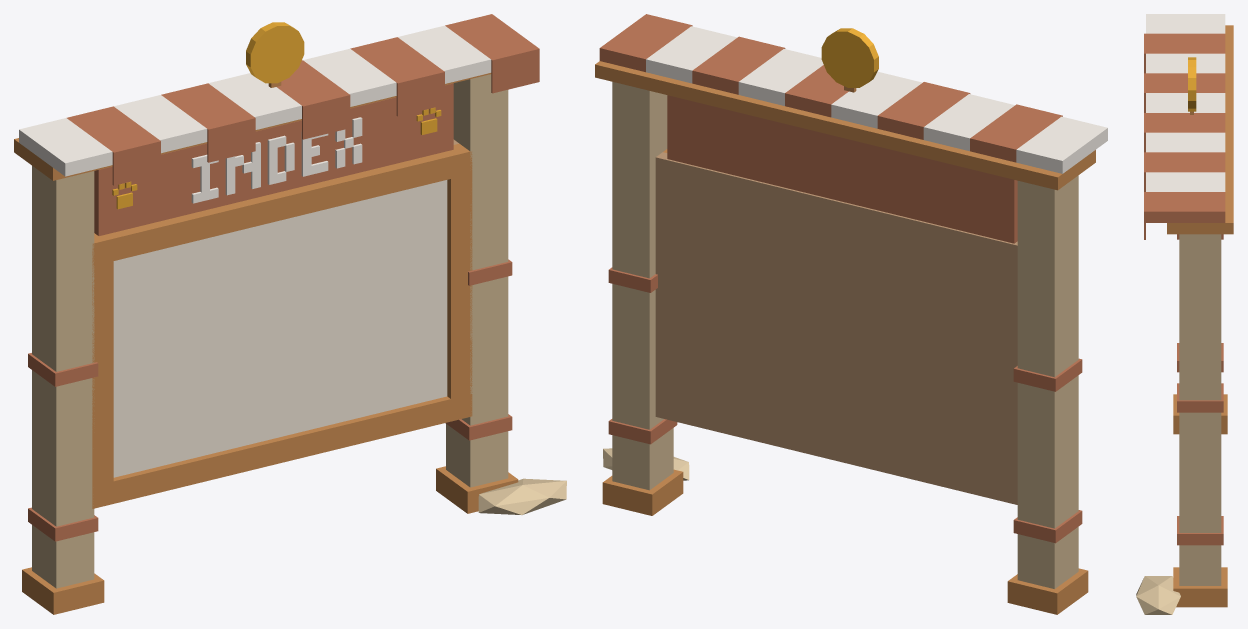
The model's file is CatCafe_Desert_IndexBoard.glb.
The picture shows the model from 3 angles, left to right: view 1: azimuth 30°, elevation 25°; view 2: azimuth 150°, elevation 25°; view 3: azimuth 270°, elevation 25°; orthographic projection. The views are drawn at different scales.
Visible parts, largest first — view 1: CatCafe_Desert_IndexBoard, CatCafe_Desert_IndexBoard_Screen; view 2: CatCafe_Desert_IndexBoard; view 3: CatCafe_Desert_IndexBoard.
Boxes of the visible parts, box(x1,y1,x2,y2) form: CatCafe_Desert_IndexBoard: box(14, 14, 566, 614); CatCafe_Desert_IndexBoard_Screen: box(113, 180, 447, 477); CatCafe_Desert_IndexBoard: box(595, 14, 1107, 614); CatCafe_Desert_IndexBoard: box(1136, 14, 1233, 614).
Bounding box in the file's own units: 12.05 × 11.9 × 2.34.
Materials: 1 (1 with a texture image).
